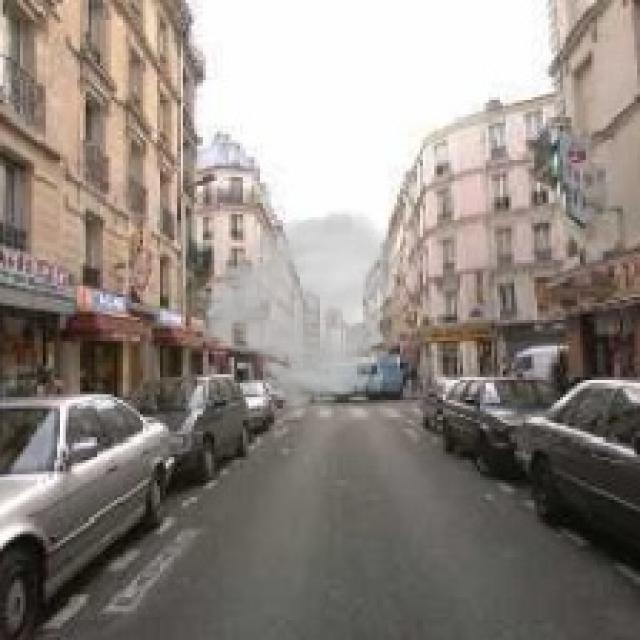Smoke: (188, 208, 408, 412)
